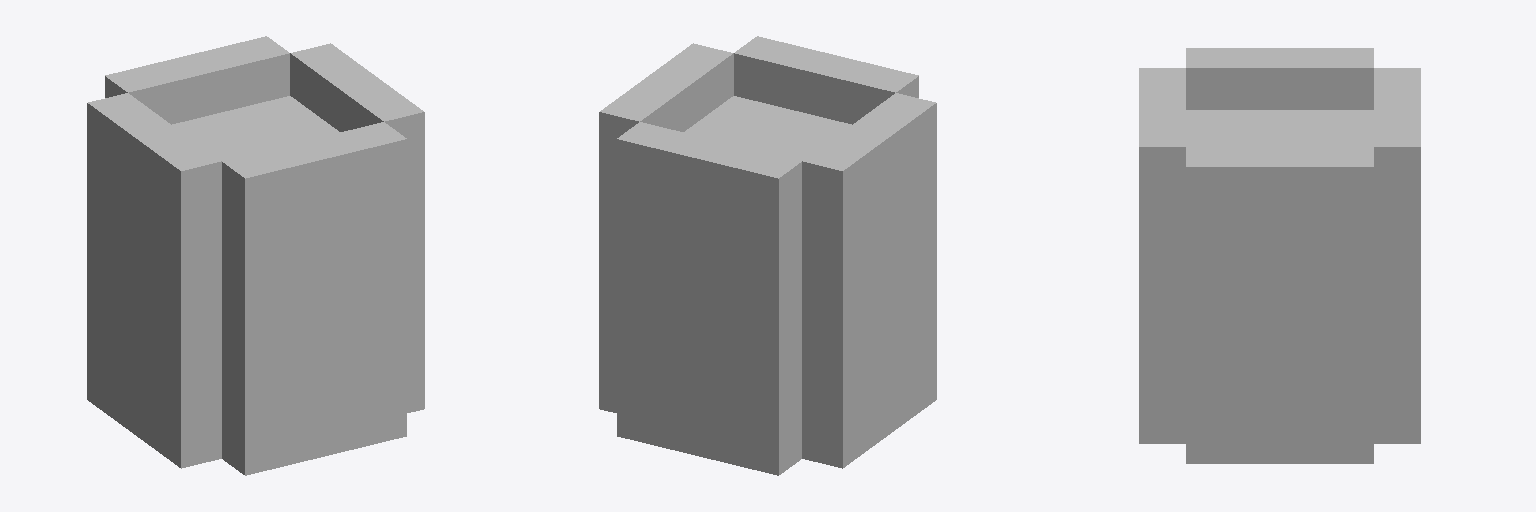
Rendered from cooking_drinking_glass_full.obj.
3 renders of one model, left to right at view 1: azimuth 30°, elevation 25°; view 2: azimuth 150°, elevation 25°; view 3: azimuth 270°, elevation 25°, orthographic.
Parts seen in each view (by area): view 1: node_0_0_0, node_0_0_0.001; view 2: node_0_0_0, node_0_0_0.001; view 3: node_0_0_0, node_0_0_0.001.
Part boxes in pixels (x1,y1,x2,y2): node_0_0_0: (87,36,424,475); node_0_0_0.001: (172,96,339,160); node_0_0_0: (599,36,936,475); node_0_0_0.001: (684,96,851,160); node_0_0_0: (1139,48,1420,463); node_0_0_0.001: (1186,110,1373,146).
Size of the model in its own units: 0.375 by 0.4375 by 0.375.